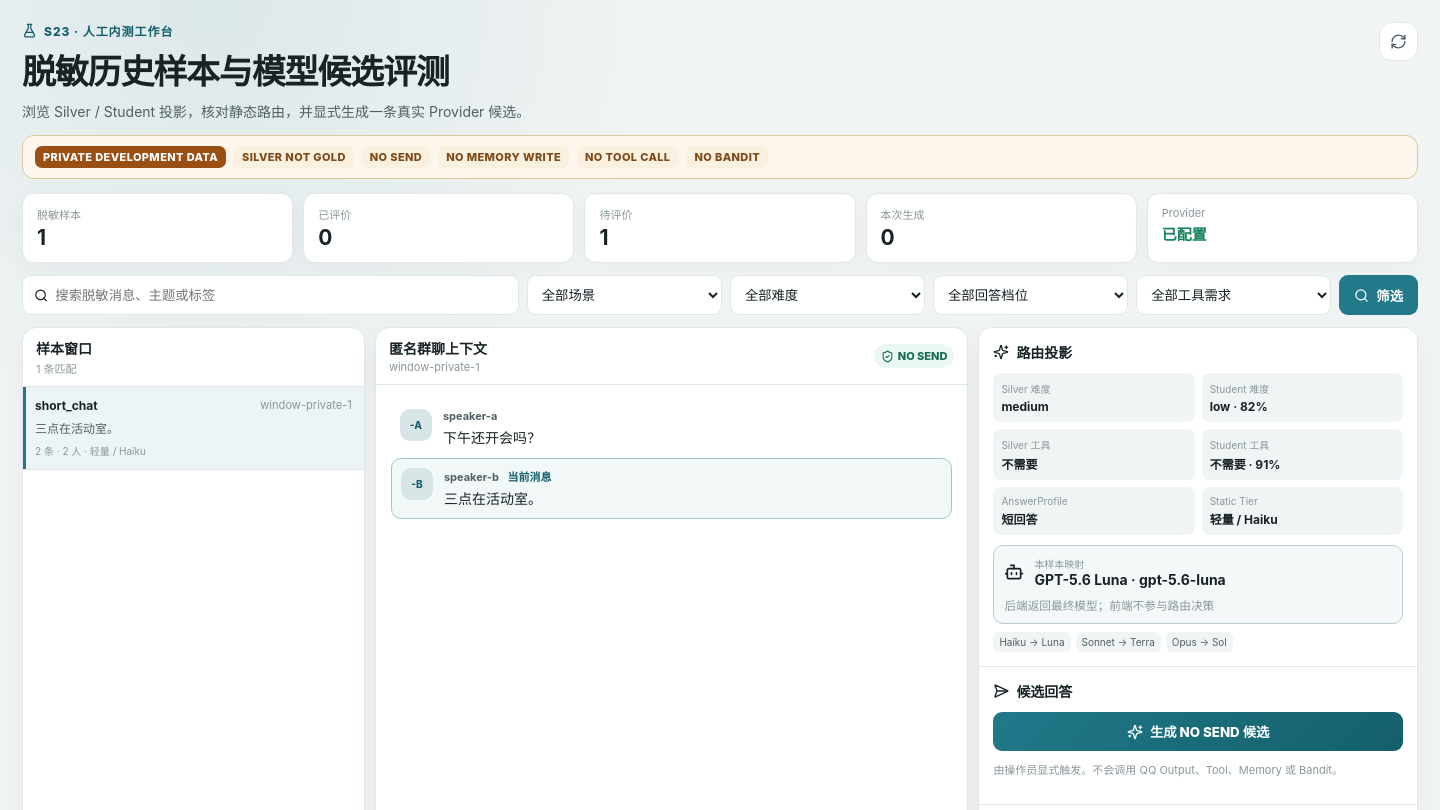
Scenario: InternalTestView › renders the private no-send projection and submits repository-external feedback
Click the button with test id "generate-candidate": (1198,732) 993,712 -> 1403,751
(page scrolled)
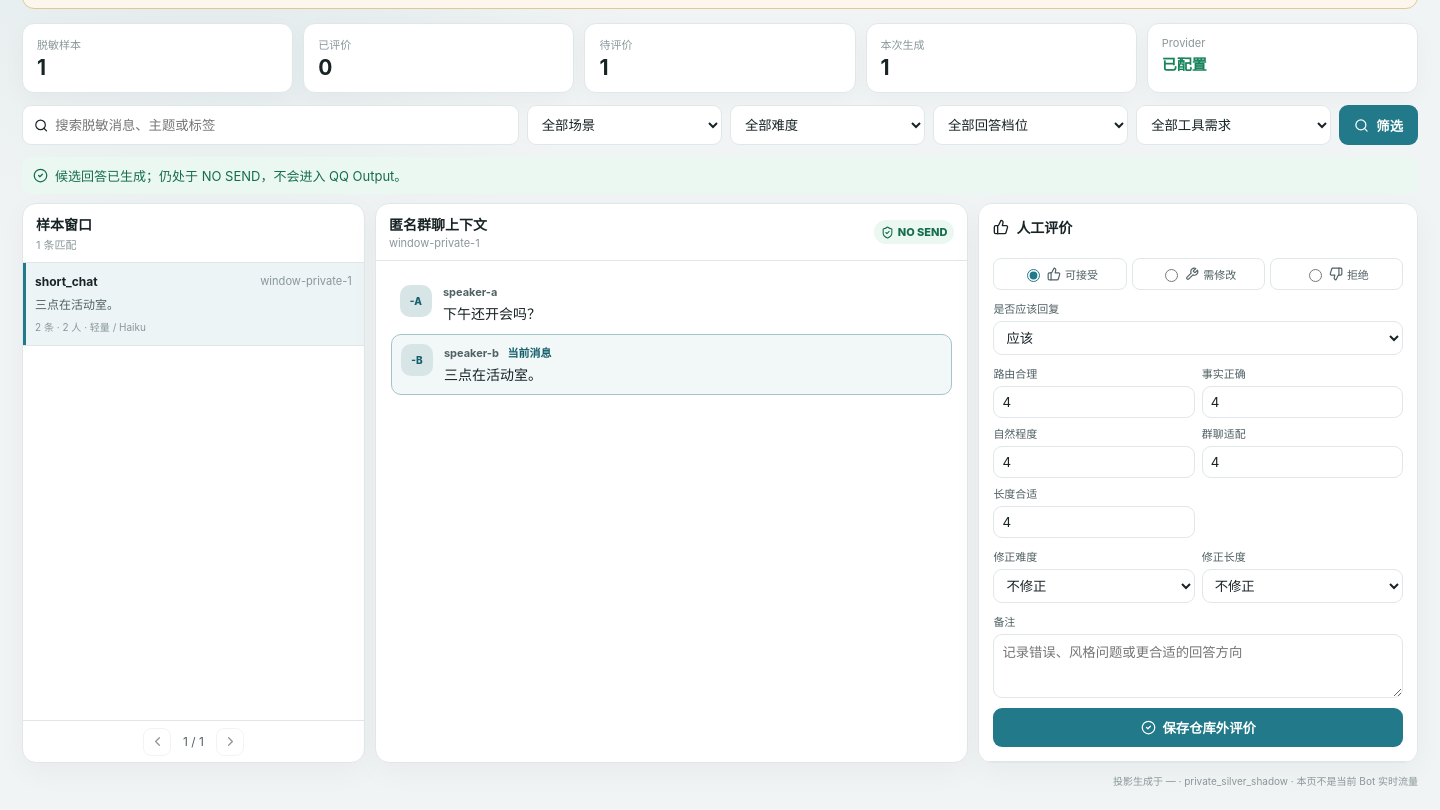
Submit the form from the button with test id "submit-feedback", box 993,708 -> 1403,747
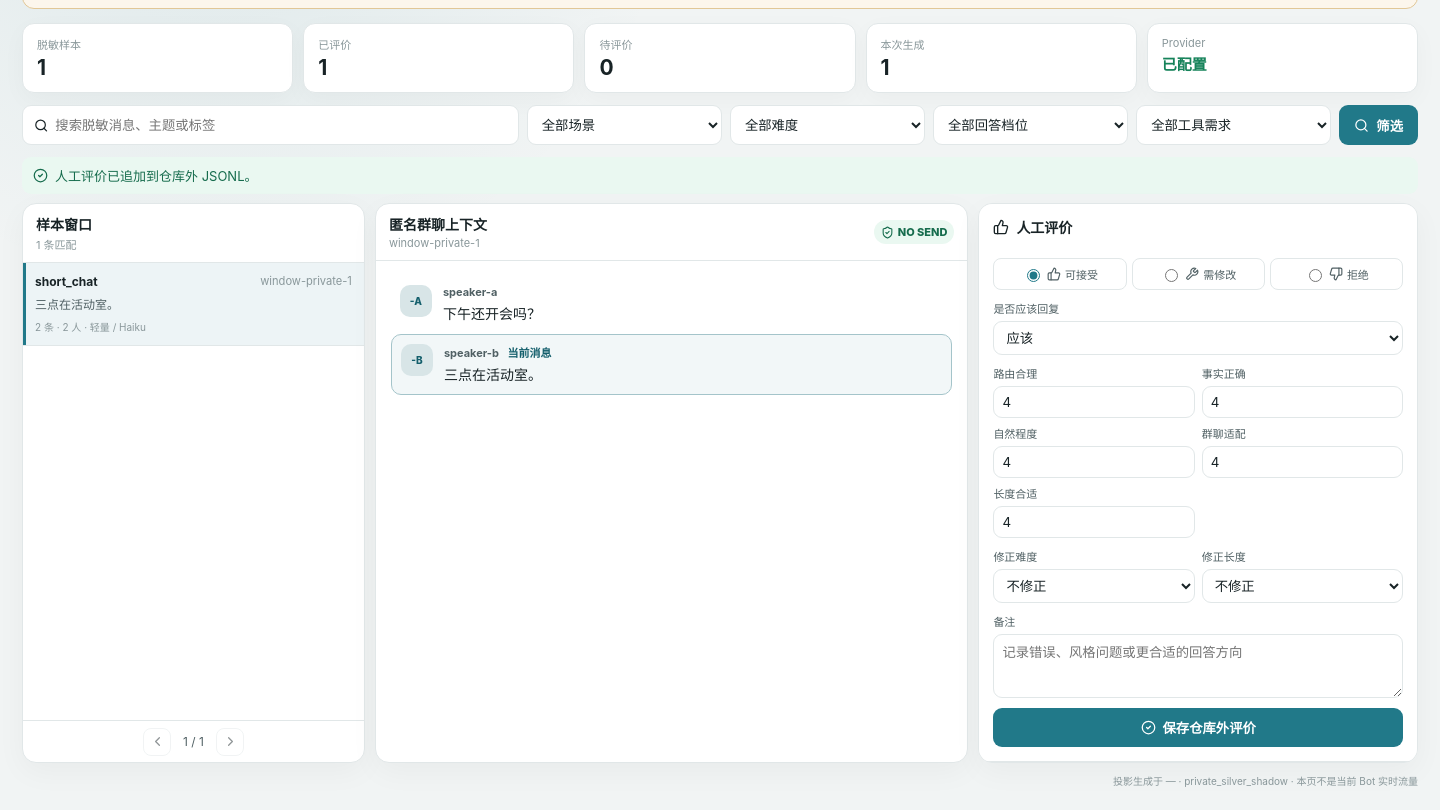
Result: the text "人工评价已追加到仓库外 JSONL" is shown at 55,168 -> 258,184
